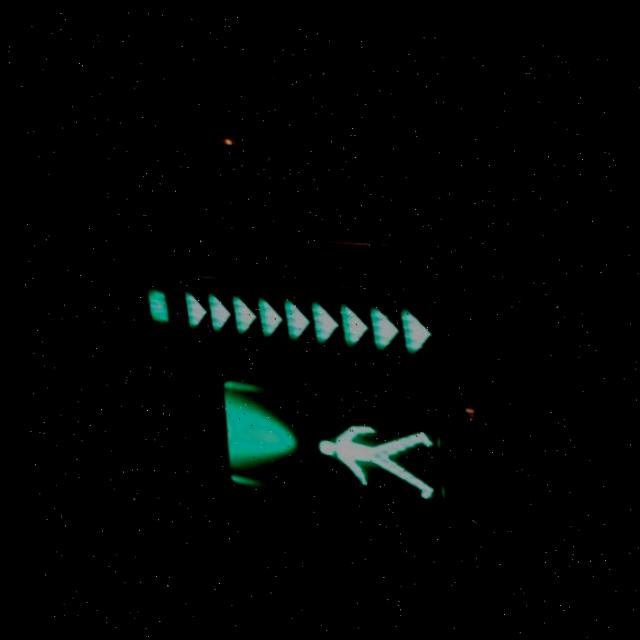green_light: (295, 393, 444, 501)
